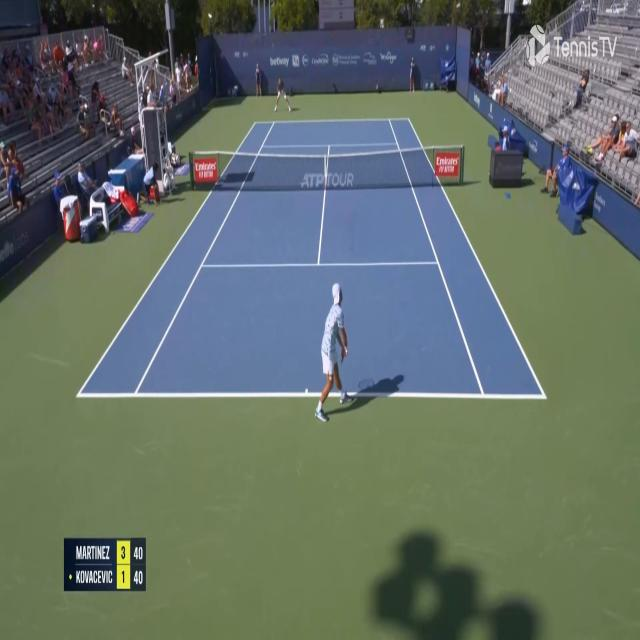tennis-player: (312, 280, 358, 426), (273, 76, 292, 115)
